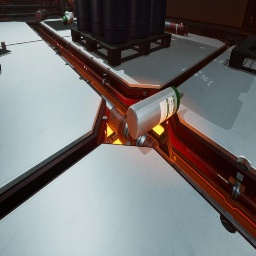0: (127, 86, 184, 140), (62, 14, 73, 25), (64, 11, 74, 19)
NitrogenTank ,: (164, 19, 189, 36), (36, 9, 48, 22)
